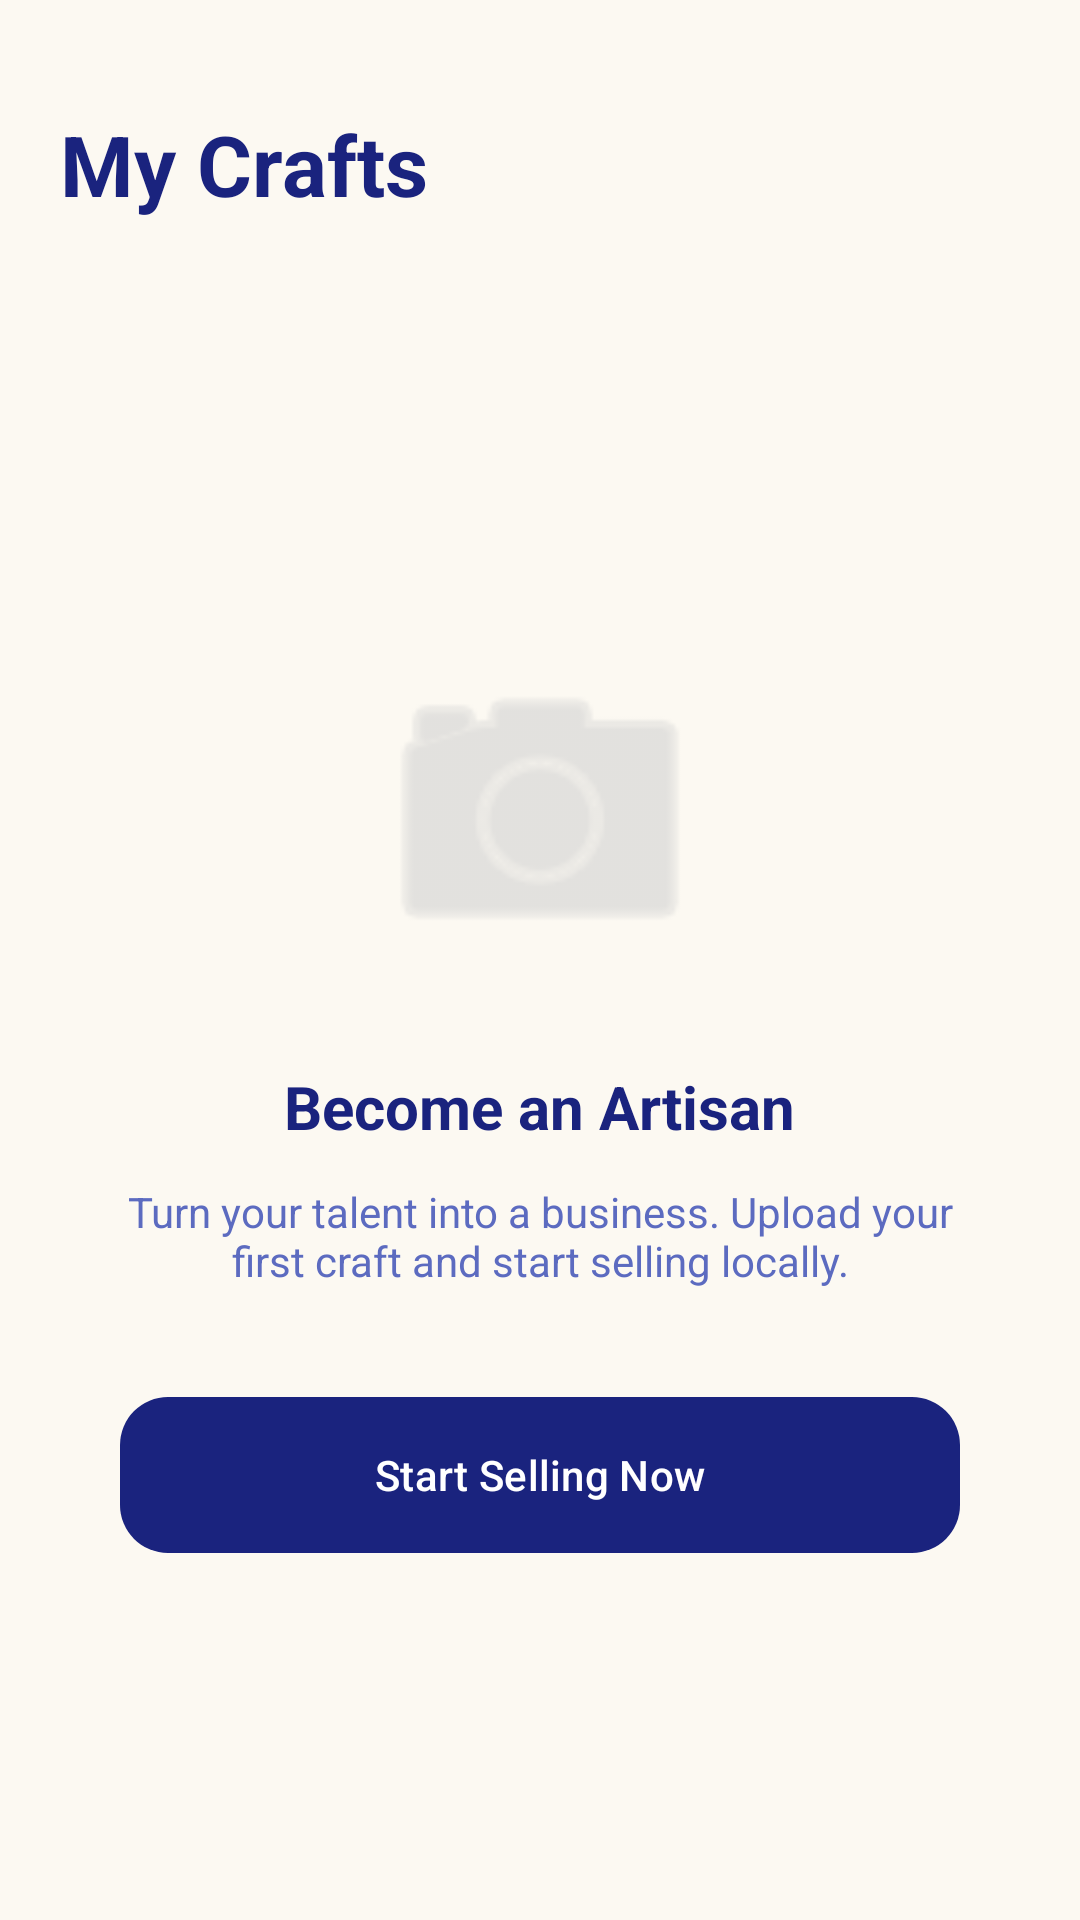

Locate icon controls on the screen. Image size 1080x1920, boxes as (x1, y1, x2, y2).
camera: (412, 709, 667, 908)
